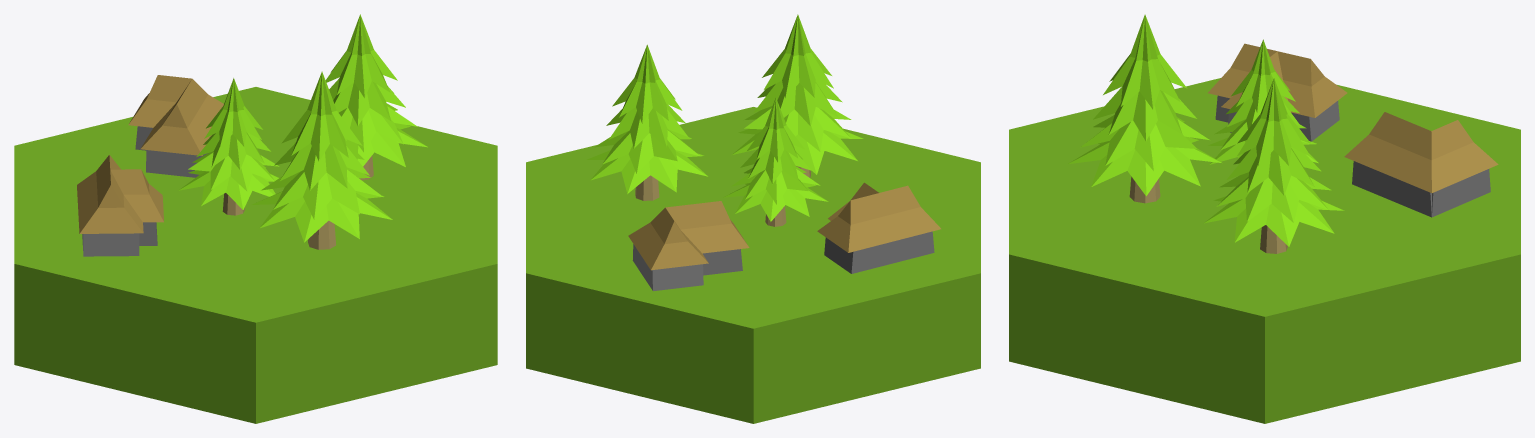
File: Casas_Pinos_altos_2.fbx
3 views of the same model, side by side, from view 1: azimuth 30°, elevation 25°; view 2: azimuth 150°, elevation 25°; view 3: azimuth 270°, elevation 25° (orthographic). The views are drawn at different scales.
Visible parts, largest first — view 1: Casas_Pinos_altos_2; view 2: Casas_Pinos_altos_2; view 3: Casas_Pinos_altos_2.
Boxes of the visible parts, box(x1,y1,x2,y2) form: Casas_Pinos_altos_2: box(14, 14, 497, 423); Casas_Pinos_altos_2: box(526, 14, 980, 423); Casas_Pinos_altos_2: box(1009, 14, 1520, 423).
Bounding box in the file's own units: 200 × 108 × 173.
